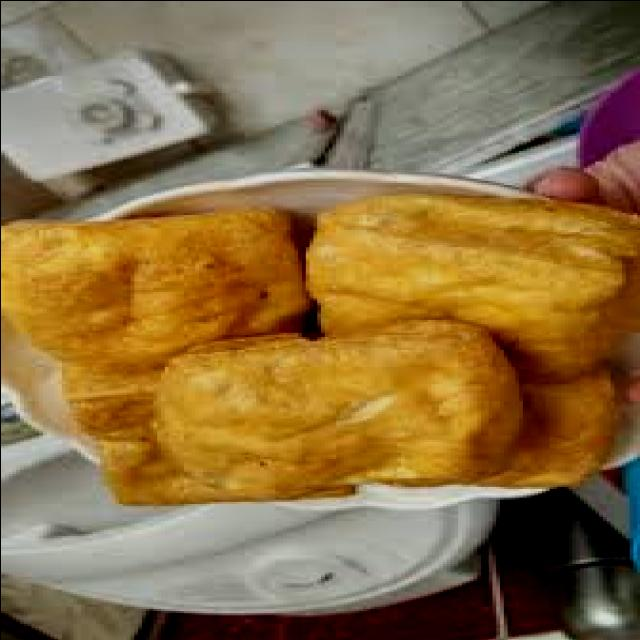tahu goreng: (134, 315, 532, 500), (291, 189, 635, 374), (0, 218, 332, 368)
